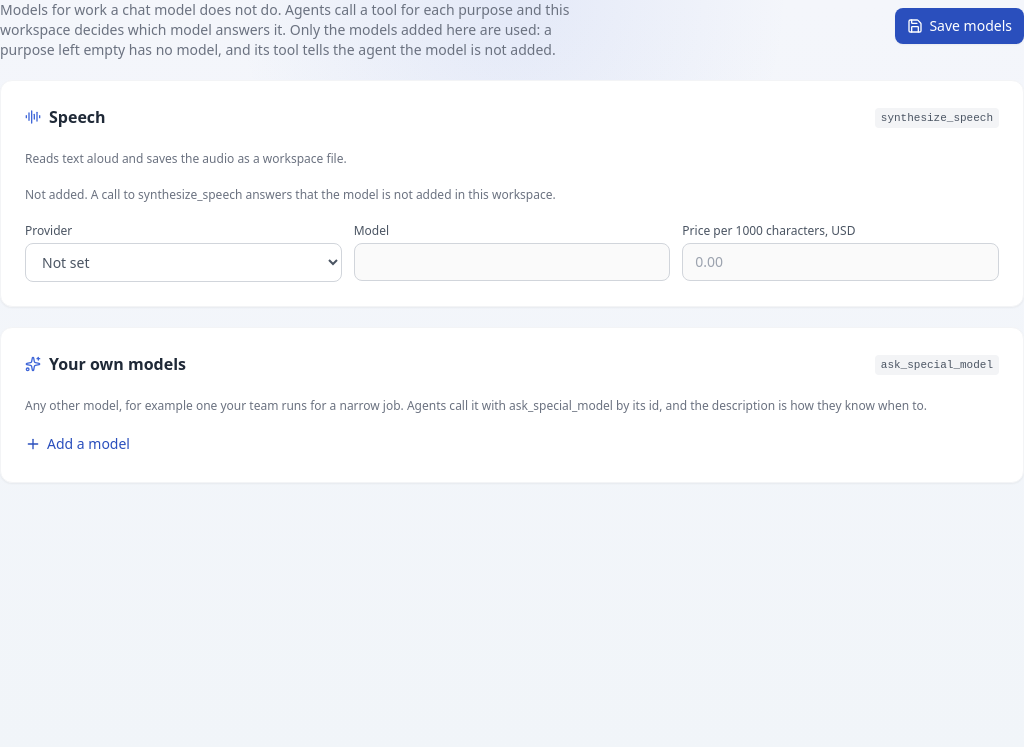
Test: WorkspaceSpecialModels with the hub runtime › drops the voice picked for one model when another model is picked
Expected: the text with test id "special-speech-missing" is shown, top-left (25, 186), bottom-right (556, 203)
Select "Hub runtime" in the dropdown labelled "Provider" at [183, 262], box top-left (25, 243), bottom-right (342, 282)
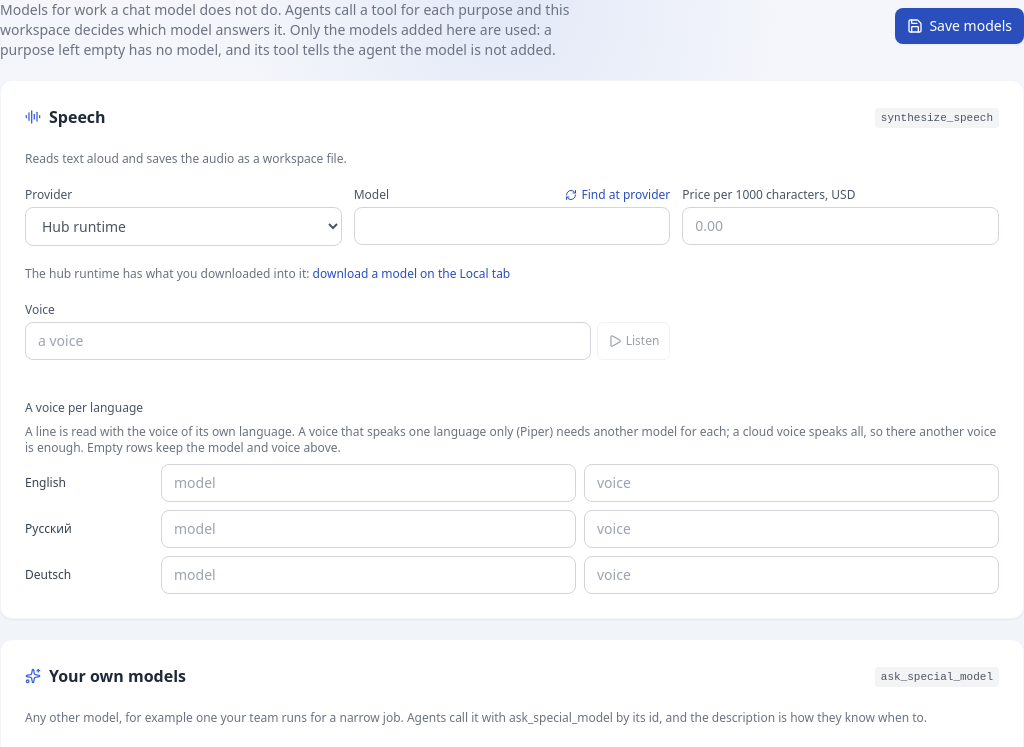
Type "kokoro-v1.0" into the field labelled "Model" at [512, 226], box top-left (354, 207), bottom-right (670, 245)
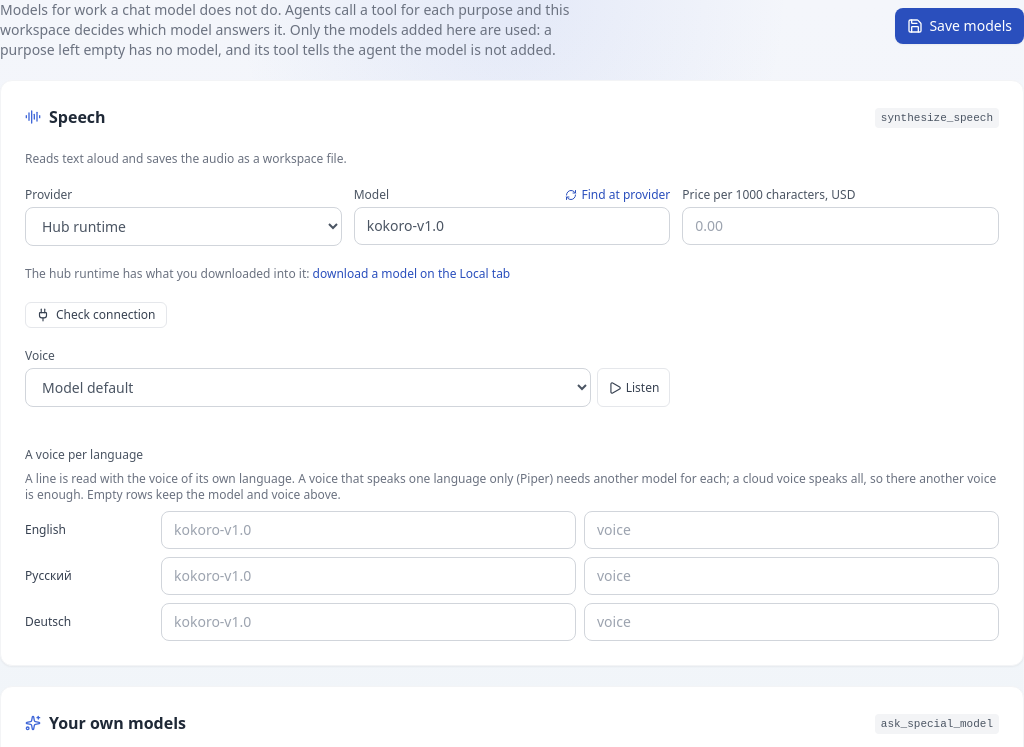
Select "ff_siwis" in the dropdown with test id "special-speech-voice" at [308, 388], box top-left (25, 368), bottom-right (591, 407)
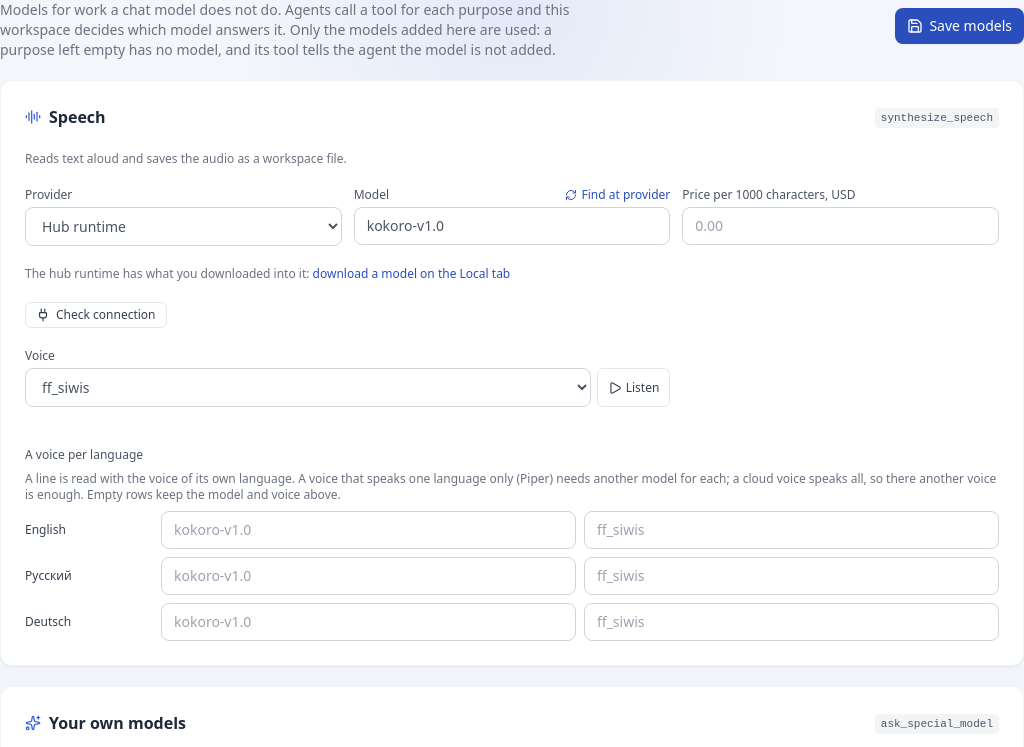
Replace the text in the field labelled "Model" with "kitten-tts-nano" at [512, 226], box top-left (354, 207), bottom-right (670, 245)
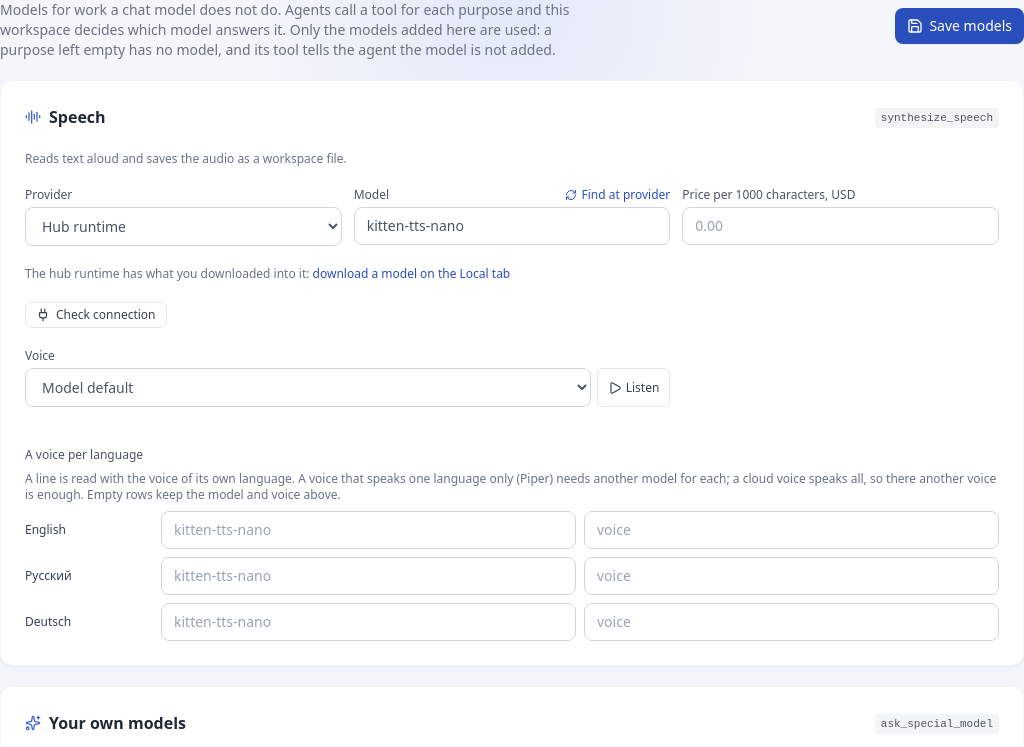
Expected: the dropdown with test id "special-speech-voice" shows "Model default", top-left (25, 368), bottom-right (591, 407)
